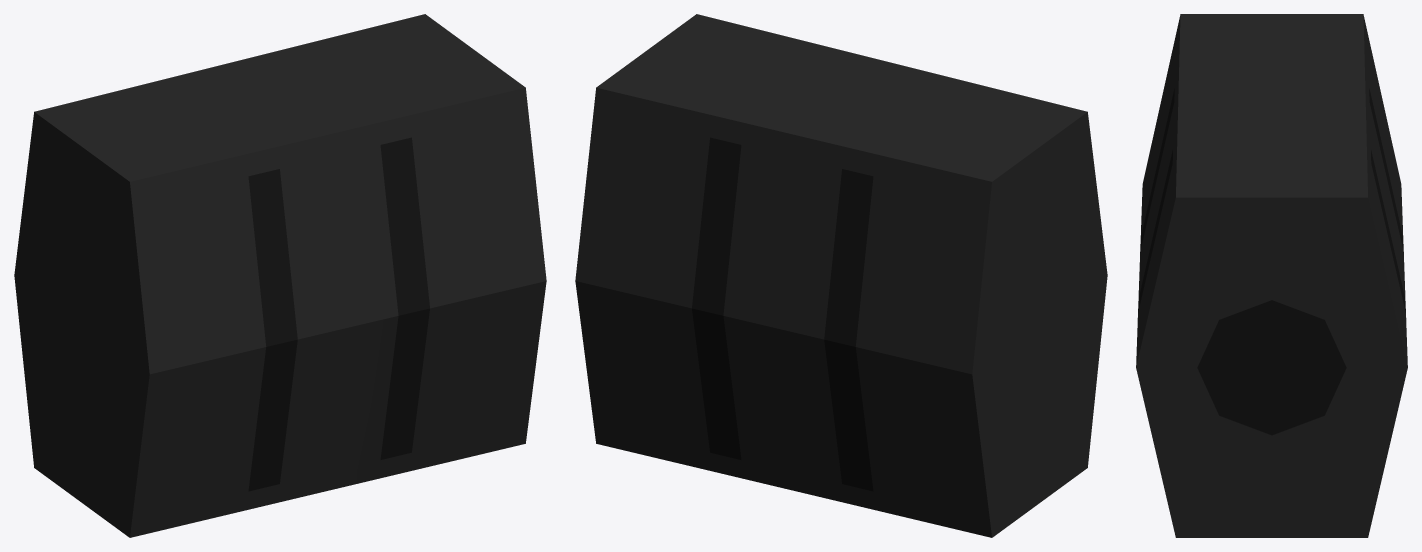
File: Accesories_muzzlebrake_C_V2.FBX
The picture shows the model from 3 angles, left to right: view 1: azimuth 30°, elevation 25°; view 2: azimuth 150°, elevation 25°; view 3: azimuth 270°, elevation 25°; orthographic projection. The views are drawn at different scales.
Parts seen in each view (by area): view 1: Accesories_muzzlebrake_C_V2; view 2: Accesories_muzzlebrake_C_V2; view 3: Accesories_muzzlebrake_C_V2.
Part boxes in pixels (bbox=[...]): Accesories_muzzlebrake_C_V2: bbox=[14, 14, 546, 537]; Accesories_muzzlebrake_C_V2: bbox=[575, 14, 1107, 537]; Accesories_muzzlebrake_C_V2: bbox=[1136, 14, 1407, 537].
Size of the model in its own units: 32.95 by 28.5 by 20.62.
